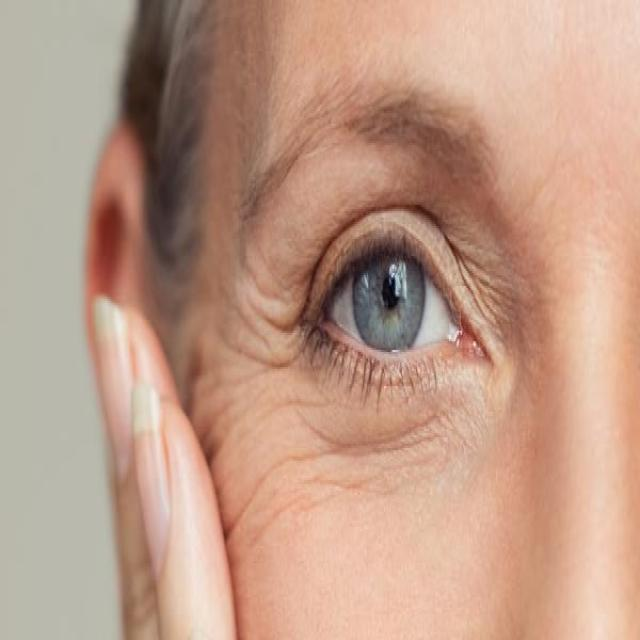Wrinkles: (225, 400, 441, 543), (223, 334, 303, 368), (223, 285, 268, 340), (246, 293, 298, 333), (302, 474, 368, 488)
